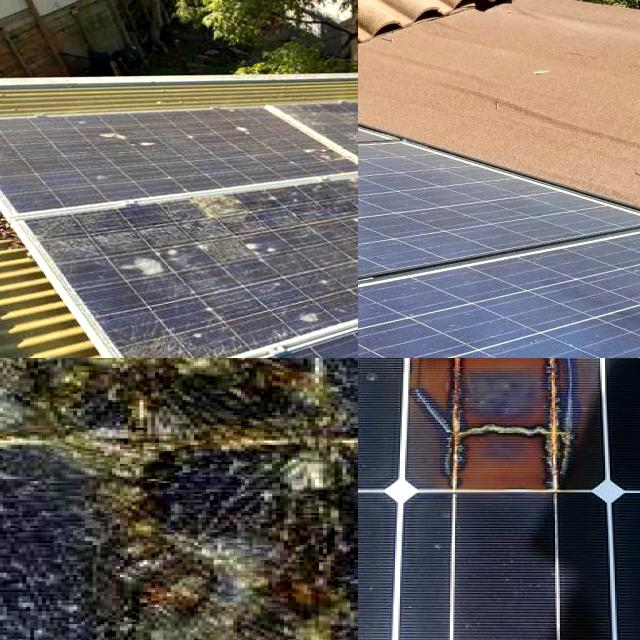bird: (76, 115, 200, 158), (176, 182, 260, 222), (118, 234, 176, 286), (296, 133, 358, 170), (313, 194, 358, 236), (207, 105, 266, 137), (278, 304, 325, 332), (240, 240, 282, 268), (146, 332, 191, 358), (0, 136, 15, 172), (341, 248, 358, 273)
dust: (416, 262, 583, 358), (608, 251, 640, 352), (358, 306, 419, 358)
shadow: (0, 464, 358, 640), (0, 358, 358, 446), (404, 358, 594, 517)
